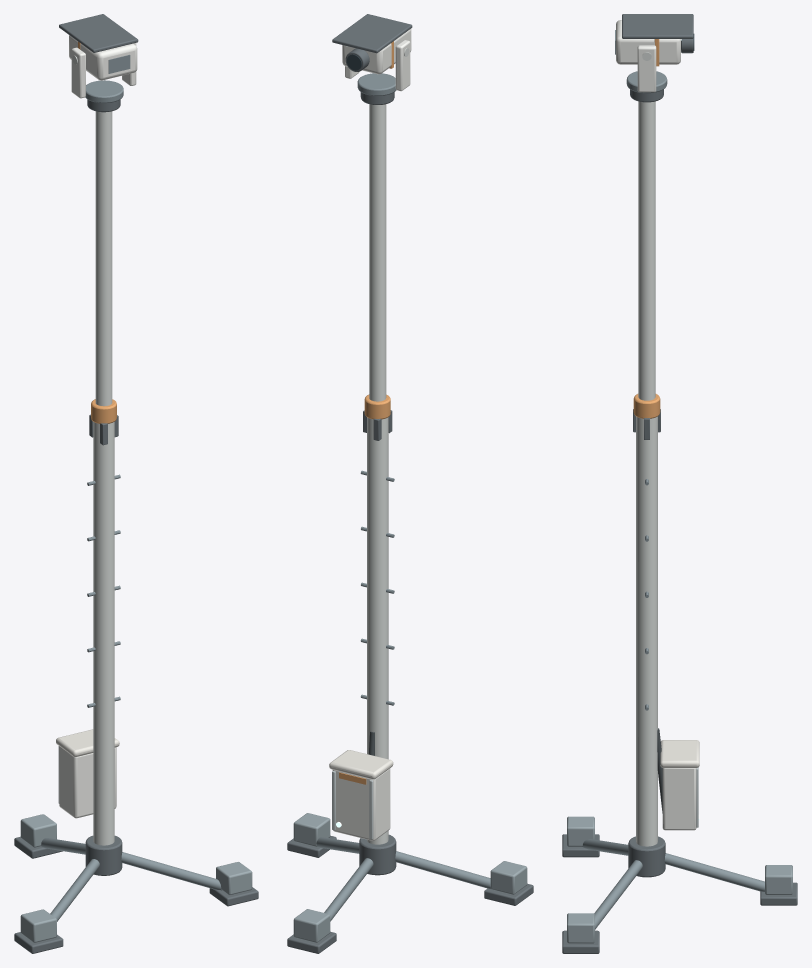
File: camera_mast.glb
The picture shows the model from 3 angles, left to right: view 1: azimuth 30°, elevation 25°; view 2: azimuth 150°, elevation 25°; view 3: azimuth 270°, elevation 25°; orthographic projection.
Visible parts, largest first — view 1: pole_lower_satin_steel, foot_dark_alloy, pole_upper_satin_steel, junction_body_white_painted, head_tilt_sunshade_graphite, head_tilt_body_white_painted, hub_graphite, head_yaw_yoke_white_painted, junction_cap_warm_shell, head_yaw_turntable_dark_alloy; view 2: pole_lower_satin_steel, foot_dark_alloy, pole_upper_satin_steel, junction_body_white_painted, head_tilt_sunshade_graphite, junction_cap_warm_shell, hub_graphite, head_tilt_body_white_painted, head_yaw_yoke_white_painted, head_yaw_turntable_dark_alloy, junction_rails_alloy, collar_orange; view 3: pole_lower_satin_steel, foot_dark_alloy, pole_upper_satin_steel, junction_body_white_painted, head_tilt_sunshade_graphite, head_tilt_body_white_painted, hub_graphite, junction_cap_warm_shell, head_yaw_yoke_white_painted, collar_orange.
Part boxes in pixels (x1,y1,x2,y2): pole_lower_satin_steel: [93, 422, 114, 845]; foot_dark_alloy: [14, 814, 258, 953]; pole_upper_satin_steel: [95, 111, 112, 406]; junction_body_white_painted: [59, 746, 116, 818]; head_tilt_sunshade_graphite: [59, 14, 138, 52]; head_tilt_body_white_painted: [69, 35, 137, 80]; hub_graphite: [85, 835, 122, 875]; head_yaw_yoke_white_painted: [71, 43, 136, 98]; junction_cap_warm_shell: [56, 729, 119, 756]; head_yaw_turntable_dark_alloy: [85, 80, 123, 103]; pole_lower_satin_steel: [367, 417, 388, 844]; foot_dark_alloy: [287, 813, 533, 953]; pole_upper_satin_steel: [369, 104, 386, 401]; junction_body_white_painted: [332, 768, 390, 840]; head_tilt_sunshade_graphite: [332, 14, 412, 53]; junction_cap_warm_shell: [329, 750, 393, 779]; hub_graphite: [359, 834, 396, 875]; head_tilt_body_white_painted: [342, 29, 411, 74]; head_yaw_yoke_white_painted: [345, 40, 410, 91]; head_yaw_turntable_dark_alloy: [357, 73, 396, 95]; junction_rails_alloy: [332, 771, 373, 839]; collar_orange: [364, 394, 390, 419]; pole_lower_satin_steel: [636, 416, 657, 846]; foot_dark_alloy: [562, 816, 797, 953]; pole_upper_satin_steel: [638, 101, 655, 400]; junction_body_white_painted: [662, 768, 696, 830]; head_tilt_sunshade_graphite: [622, 14, 693, 38]; head_tilt_body_white_painted: [616, 20, 680, 64]; hub_graphite: [628, 836, 665, 877]; junction_cap_warm_shell: [660, 740, 699, 767]; head_yaw_yoke_white_painted: [637, 45, 656, 92]; collar_orange: [633, 394, 660, 418].
Bounding box in the file's own units: 1.71 × 6.2 × 1.52.
